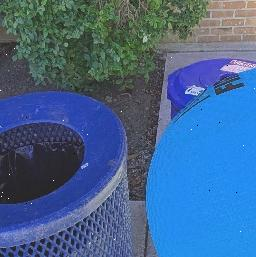algae: (145, 62, 256, 257)
